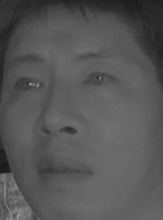eye: (81, 67, 119, 94), (10, 73, 45, 97)
mouth: (34, 148, 95, 188)
